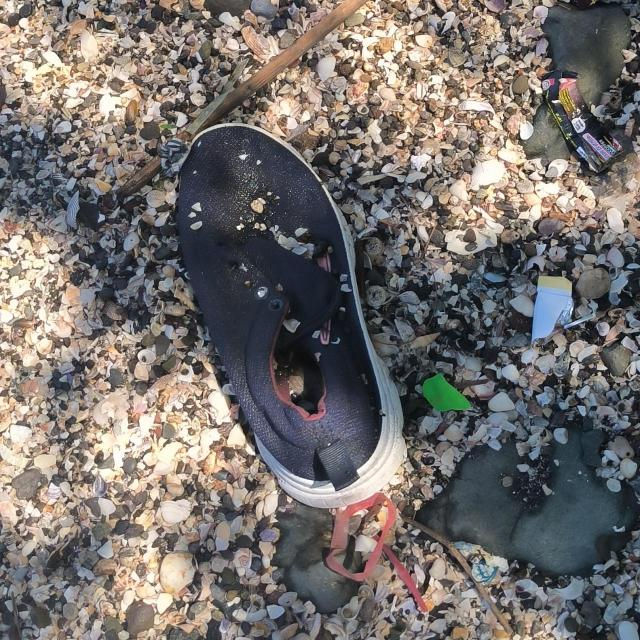litter: (177, 123, 410, 517), (540, 71, 620, 177)
